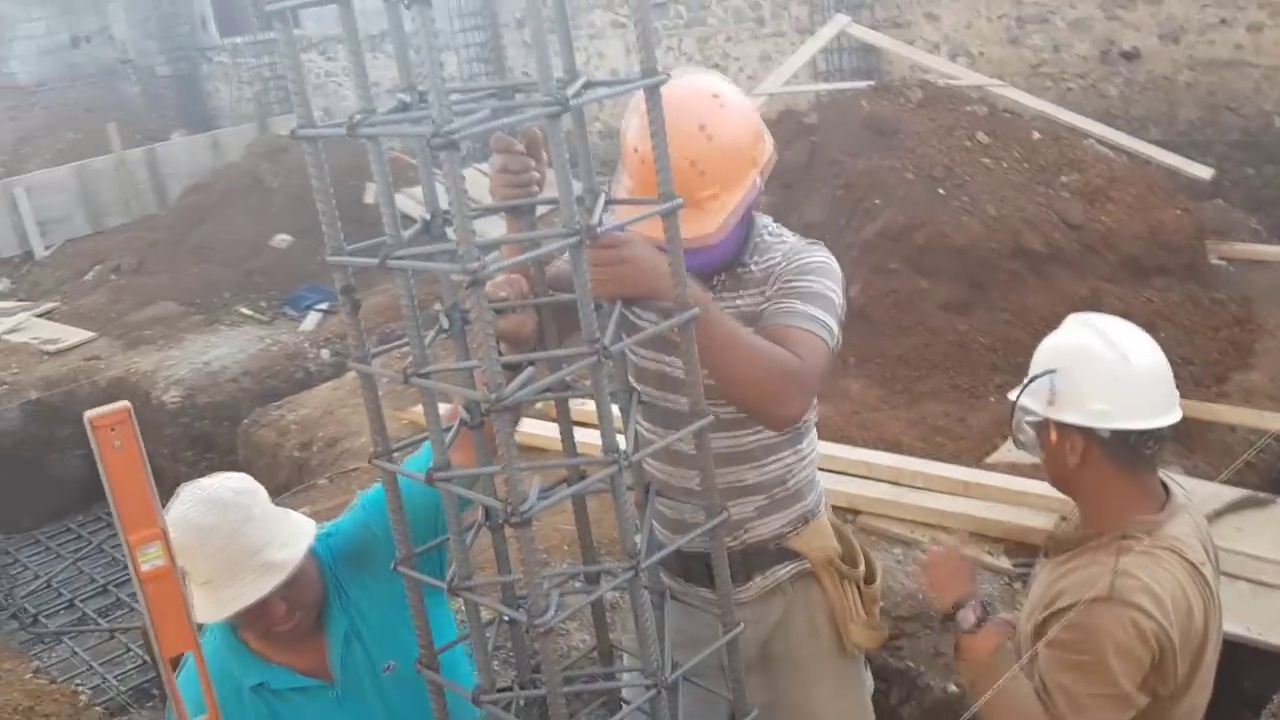helmet: (596, 47, 769, 252), (1018, 317, 1191, 465)
helmet-off: (156, 477, 331, 664)
helmet-on: (588, 52, 768, 282), (1010, 315, 1196, 536)
person: (509, 25, 862, 700), (161, 380, 490, 716), (962, 330, 1231, 720)
